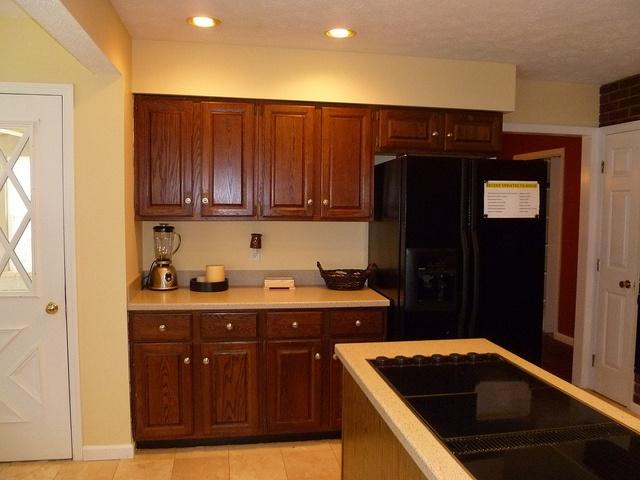Lemari: (131, 93, 374, 222)
